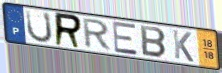B: (139, 24, 168, 60)
E: (111, 21, 141, 57)
K: (171, 29, 195, 64)
R: (54, 11, 84, 50), (82, 17, 114, 52)
U: (25, 9, 55, 44)
